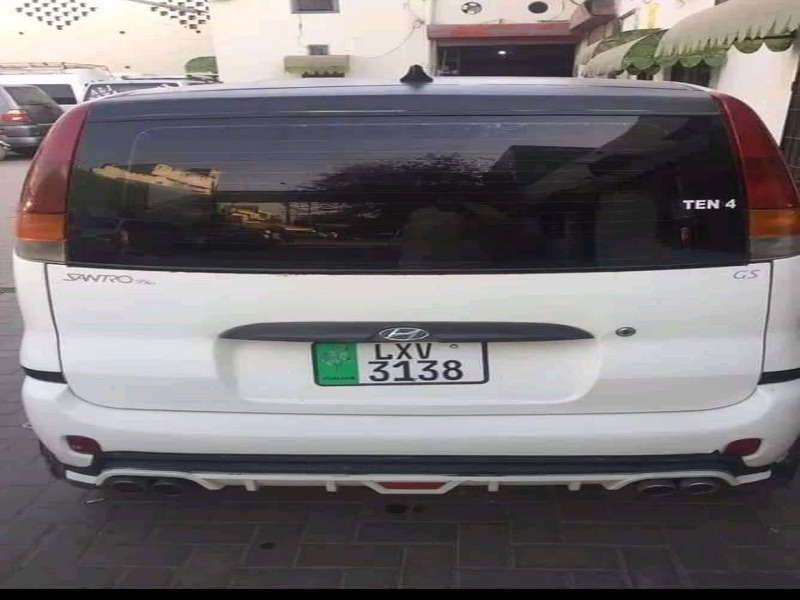License Plate: (309, 337, 493, 391)
